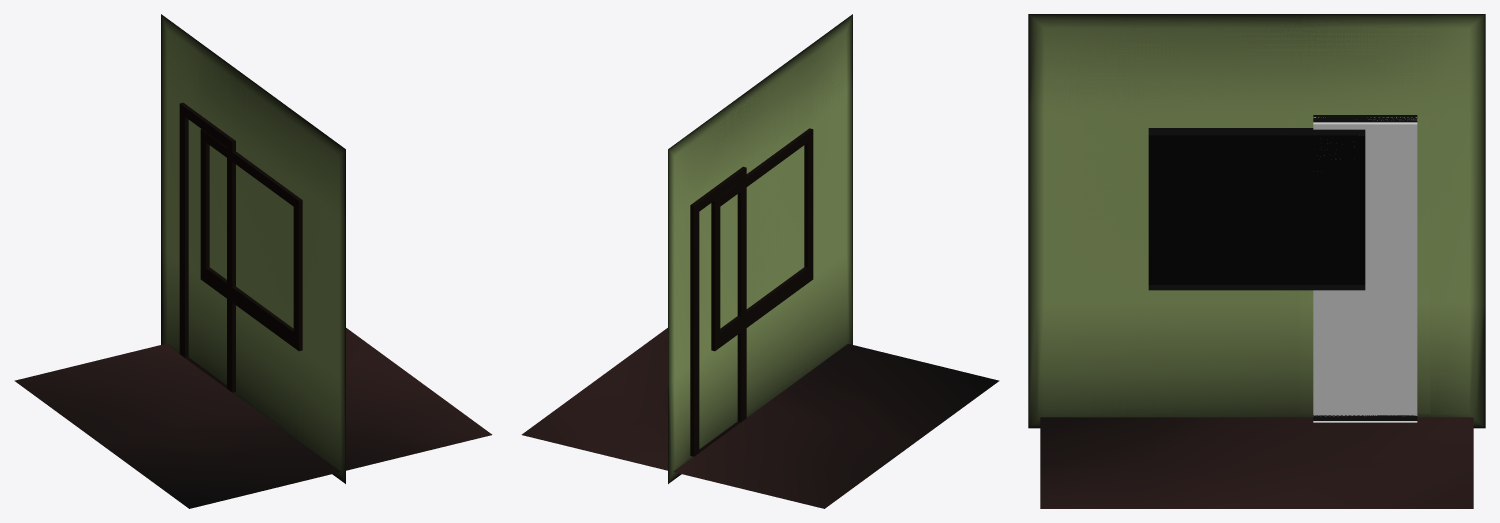
The model's file is RoomWalls.fbx.
3 renders of one model, left to right at view 1: azimuth 30°, elevation 25°; view 2: azimuth 150°, elevation 25°; view 3: azimuth 270°, elevation 25°, orthographic. The views are drawn at different scales.
Visible parts, largest first — view 1: WallEast, Ceiling, WallWest, WallNorth; view 2: WallEast, Ceiling, WallWest, WallNorth; view 3: WallEast, WallWest, Ceiling, WallNorth, Door.
Boxes of the visible parts, left/top/right/bottom form: WallEast: left=161, top=14, right=345, bottom=483; Ceiling: left=14, top=328, right=492, bottom=508; WallWest: left=161, top=15, right=345, bottom=482; WallNorth: left=200, top=129, right=302, bottom=351; WallEast: left=668, top=14, right=852, bottom=483; Ceiling: left=521, top=328, right=999, bottom=508; WallWest: left=668, top=14, right=852, bottom=481; WallNorth: left=711, top=128, right=813, bottom=351; WallEast: left=1028, top=14, right=1485, bottom=428; WallWest: left=1028, top=14, right=1485, bottom=428; Ceiling: left=1040, top=417, right=1473, bottom=508; WallNorth: left=1148, top=128, right=1365, bottom=290; Door: left=1313, top=117, right=1417, bottom=422.
Bounding box in the file's own units: 100 × 106 × 105.
